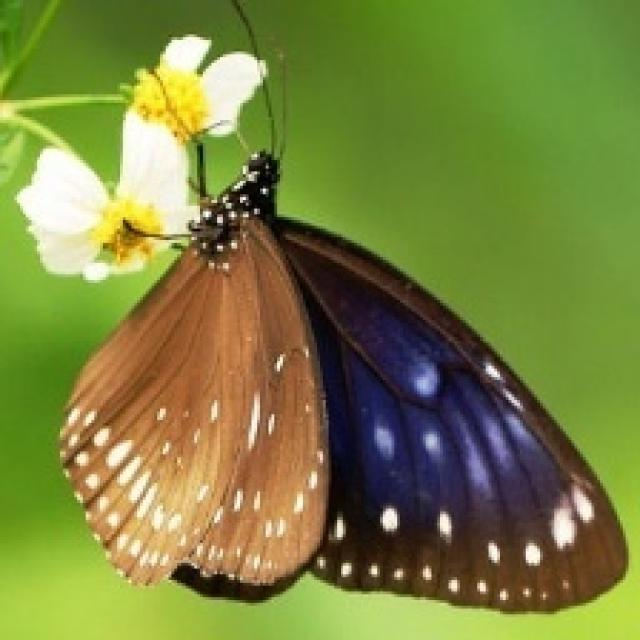butterfly: (54, 0, 628, 614)
